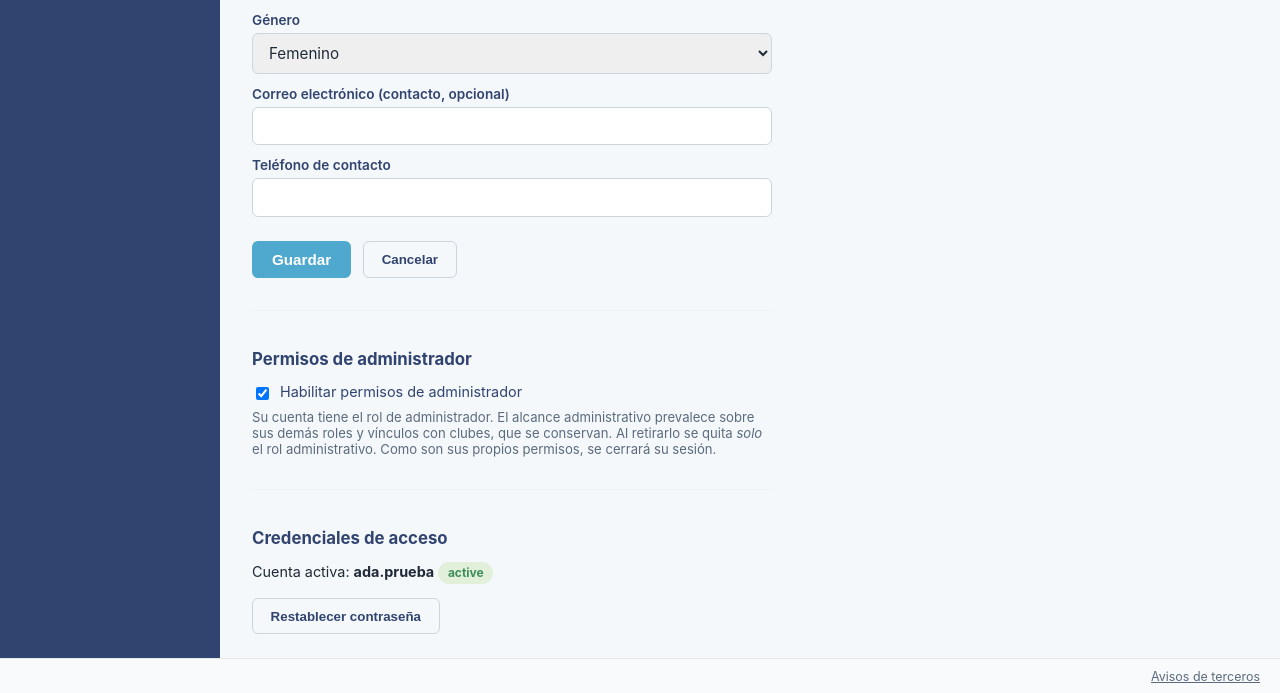
retirar › sobre UNO MISMO cierra la sesión
(page scrolled)
Click the checkbox labelled "Habilitar permisos de administrador".
click(262, 393)  # box [256, 386, 269, 400]
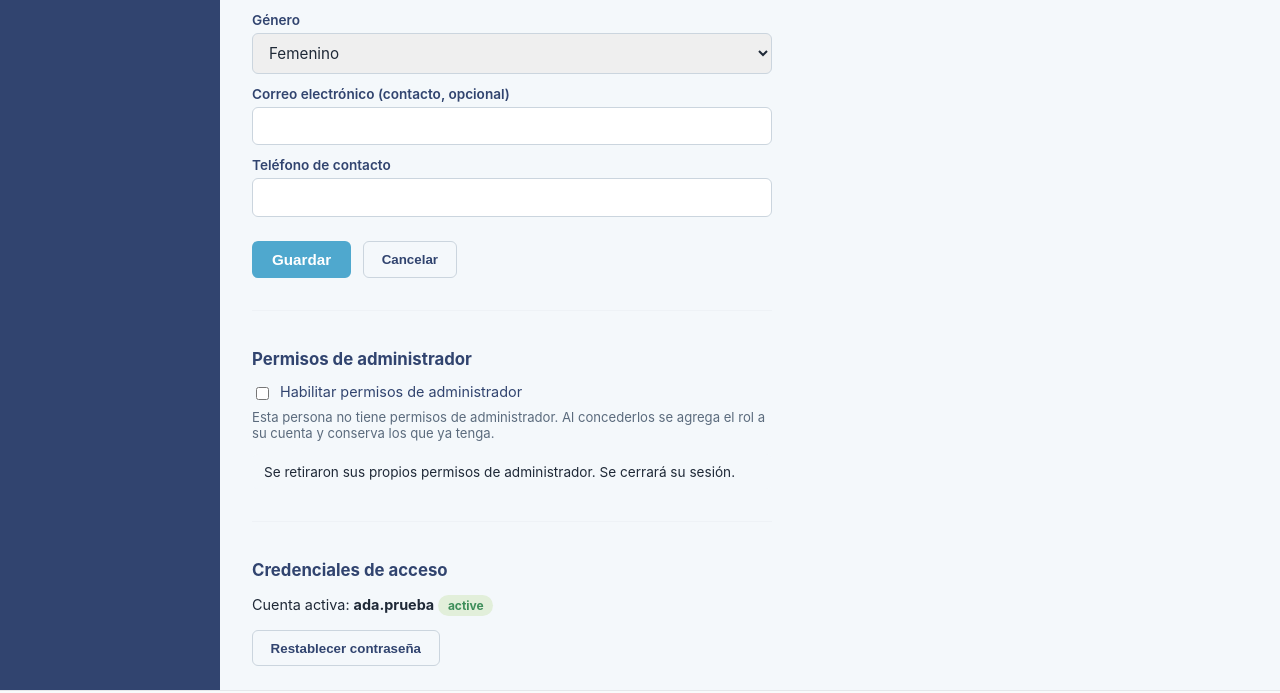
Now the text "Se cerrará su sesión" is shown, box [264, 464, 735, 480]
